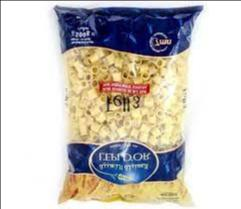Fell: (54, 6, 202, 205)
